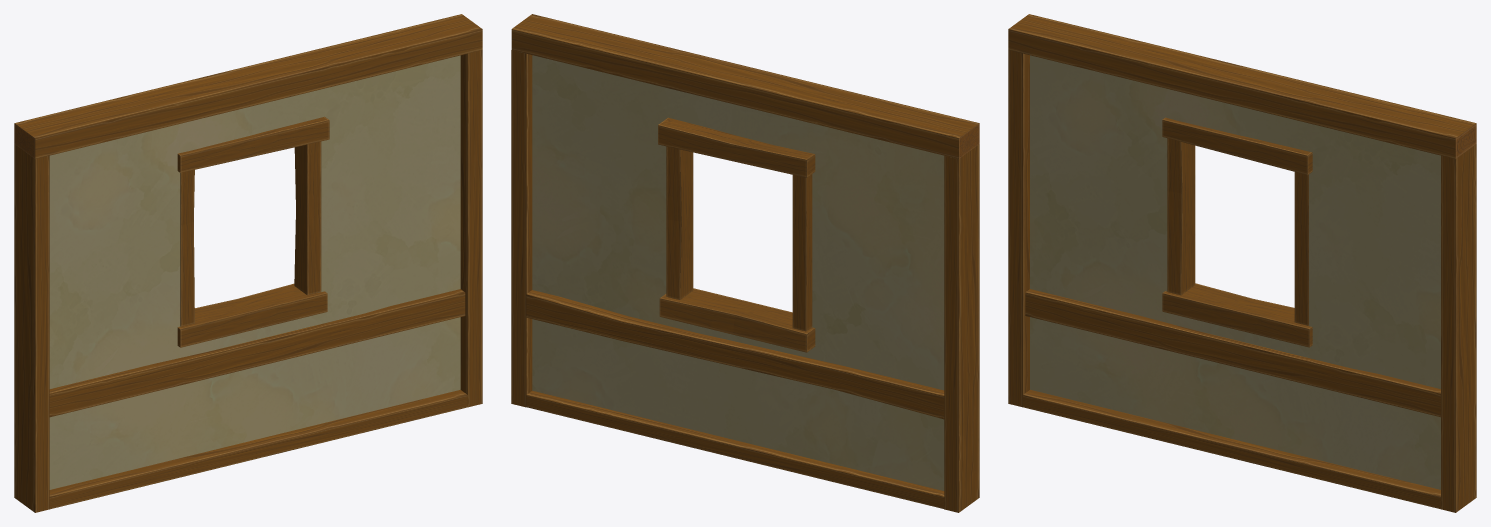
The model's file is SM_House_Wall_5x4_Window_A_02.fbx.
3 renders of one model, left to right at view 1: azimuth 30°, elevation 25°; view 2: azimuth 150°, elevation 25°; view 3: azimuth 330°, elevation 25°, orthographic.
Parts seen in each view (by area): view 1: SM_House_Wall_5x4_Window_A_02; view 2: SM_House_Wall_5x4_Window_A_02; view 3: SM_House_Wall_5x4_Window_A_02.
Part boxes in pixels (x1=…): SM_House_Wall_5x4_Window_A_02: x1=14, y1=14, x2=482, y2=512; SM_House_Wall_5x4_Window_A_02: x1=511, y1=14, x2=979, y2=512; SM_House_Wall_5x4_Window_A_02: x1=1008, y1=14, x2=1476, y2=512.
Size of the model in its own units: 5 by 4 by 0.482.
